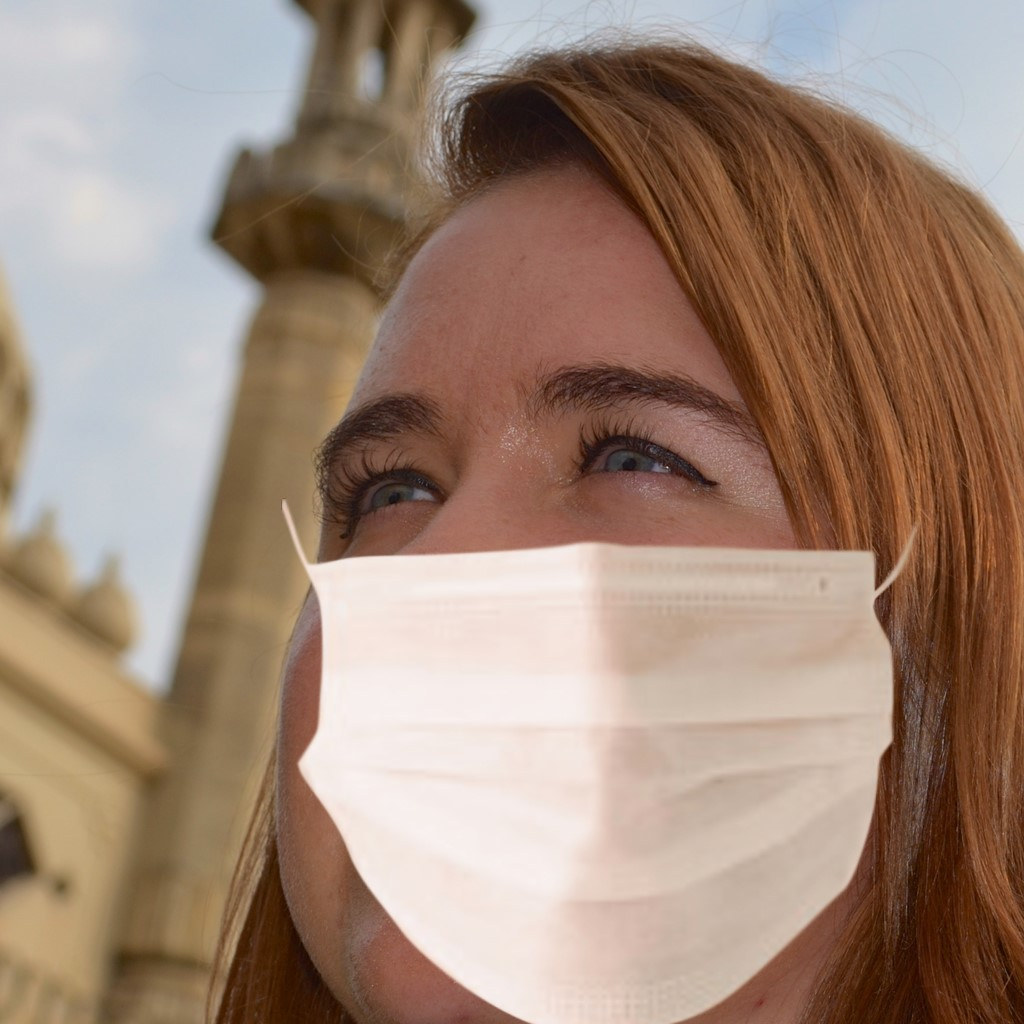con_mascara: (315, 124, 924, 1024)
